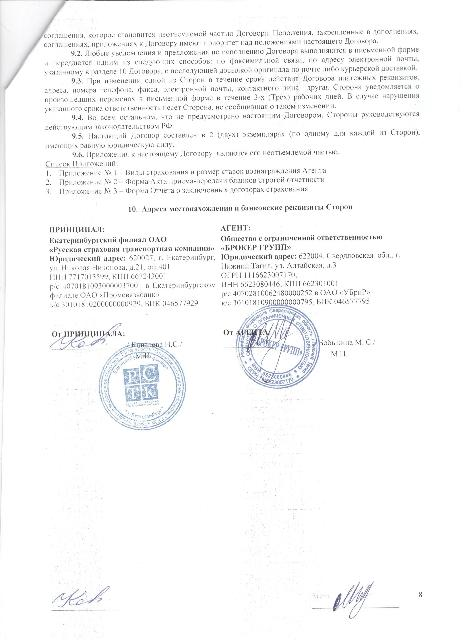stamp: (98, 344, 186, 431), (237, 306, 320, 390)
